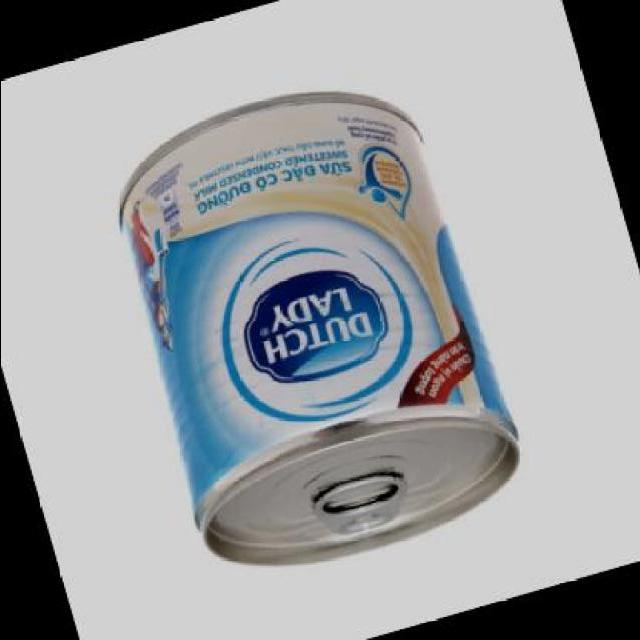can: (83, 50, 548, 602)
